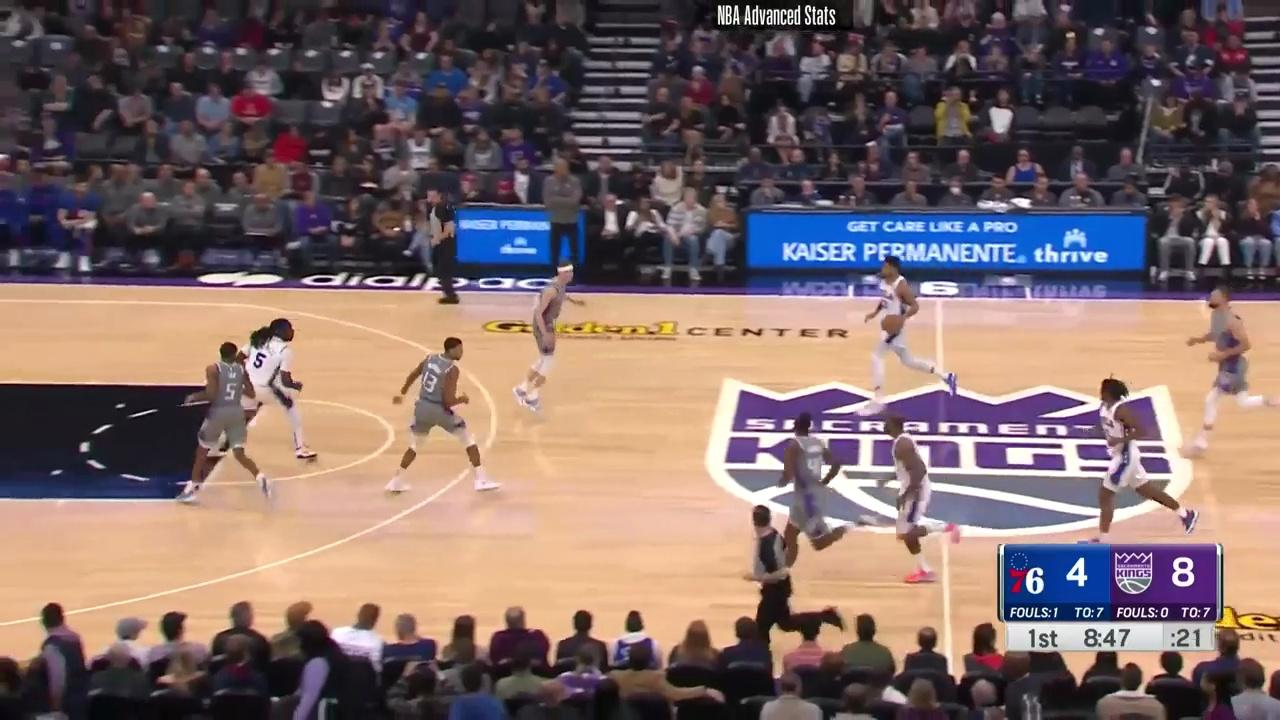Ball: (883, 316, 900, 333)
Person: (1082, 383, 1198, 546), (390, 333, 500, 495), (855, 250, 959, 405), (185, 346, 275, 509), (1187, 279, 1271, 446), (882, 411, 954, 582), (240, 317, 319, 468), (511, 257, 585, 413), (767, 409, 847, 547)
Referee: (741, 500, 822, 642), (421, 190, 472, 307)
